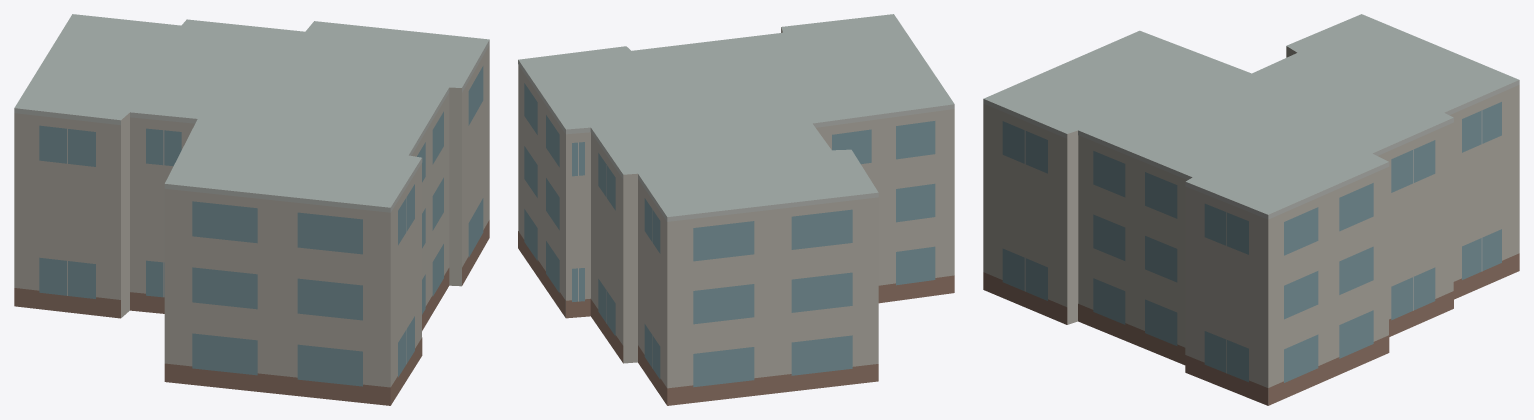
Rendered from survey-upis-33039831.glb.
3 renders of one model, left to right at view 1: azimuth 30°, elevation 25°; view 2: azimuth 150°, elevation 25°; view 3: azimuth 270°, elevation 25°, orthographic. The views are drawn at different scales.
Parts seen in each view (by area): view 1: survey-upis-33039831.tmp; view 2: survey-upis-33039831.tmp; view 3: survey-upis-33039831.tmp.
Part boxes in pixels (x1=…): survey-upis-33039831.tmp: x1=14, y1=14, x2=489, y2=405; survey-upis-33039831.tmp: x1=518, y1=14, x2=954, y2=405; survey-upis-33039831.tmp: x1=983, y1=14, x2=1519, y2=405.
Bounding box in the file's own units: 21.88 × 9.7 × 24.67.
